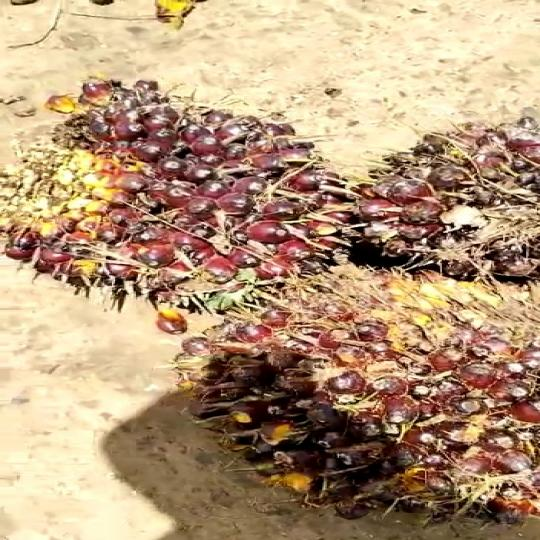kurang masak: (176, 256, 540, 525), (0, 77, 328, 296), (313, 106, 540, 280)
